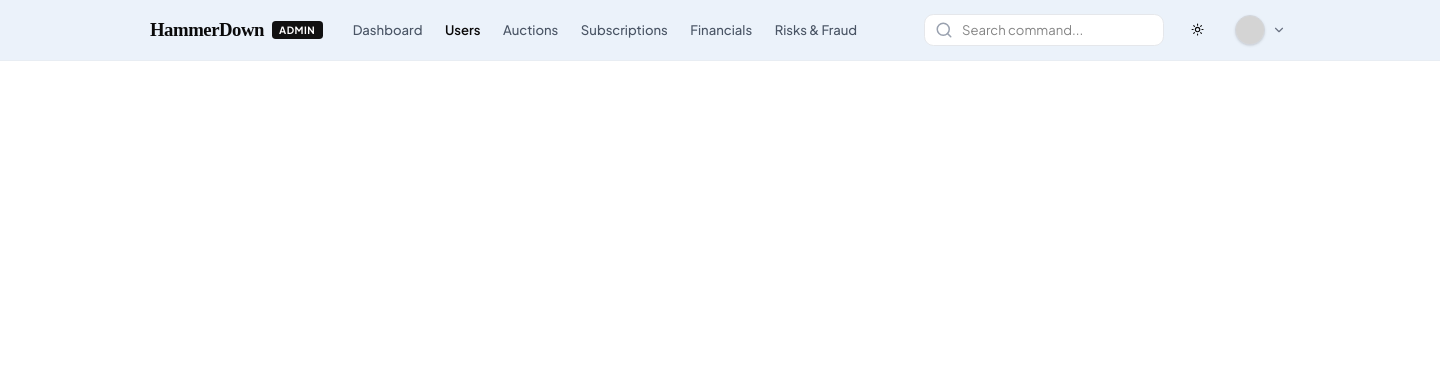
Scenario: AdminNavbar › should open administration dropdown on clicking the user avatar button
What coordinates should you click on to do the following:
click the 2nd button named "Admin"
I would click on:
 (1260, 30)
Its box is [1231, 11, 1290, 49].
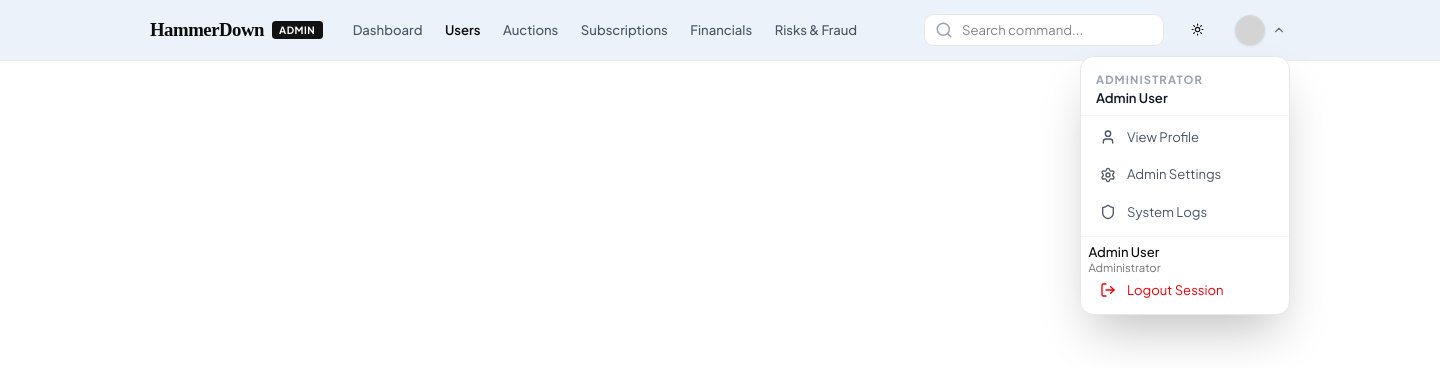
Expected: the 1st text "Administrator" is shown, [1096, 72, 1203, 86]
Expected: the button "Logout Session" is shown, [1088, 273, 1282, 307]
